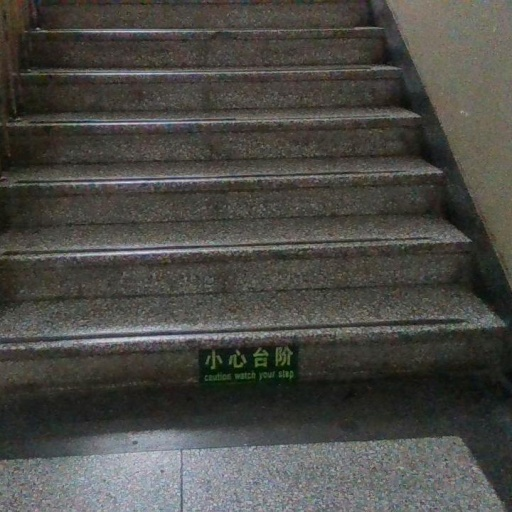Stairs: (0, 0, 503, 387)
